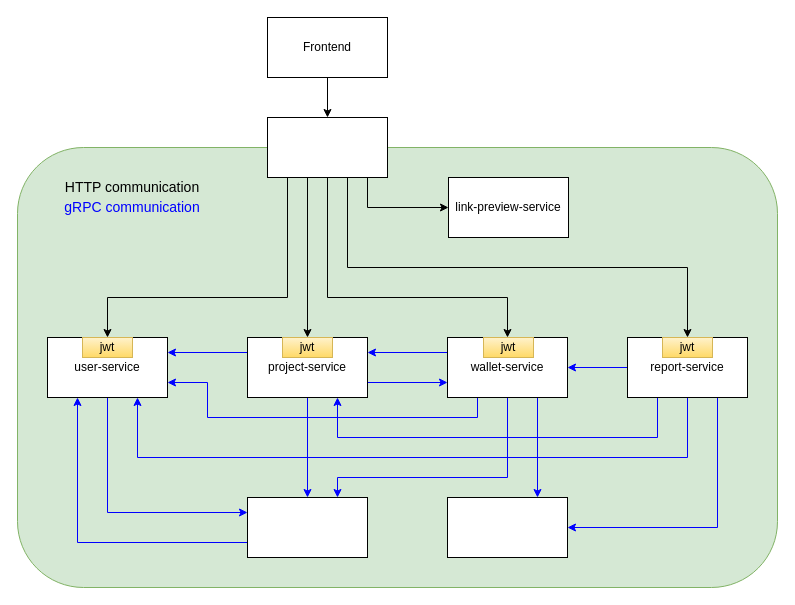
The diagram is 795 pixels wide and 605 high, and some of its shapes have lost their labels. The shapes that lost their labels are listed below. From the top down, each one's centre as x and y in pixels, then its label:
point 327,147: Nginx
point 307,527: mail-service
point 507,527: blockchain-service
